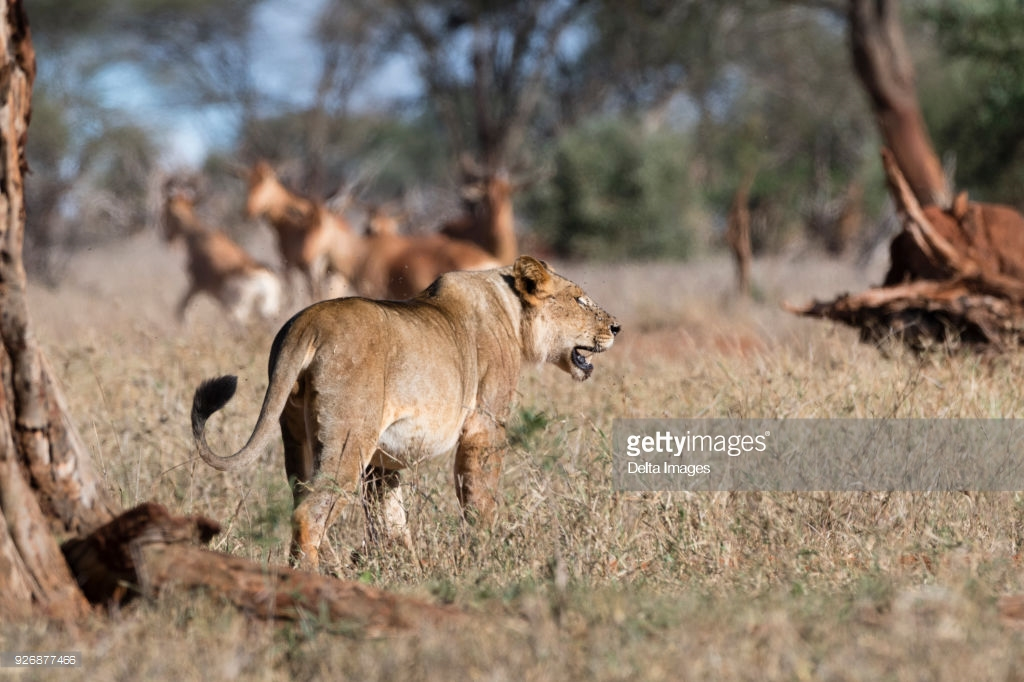lion: (185, 254, 618, 579)
